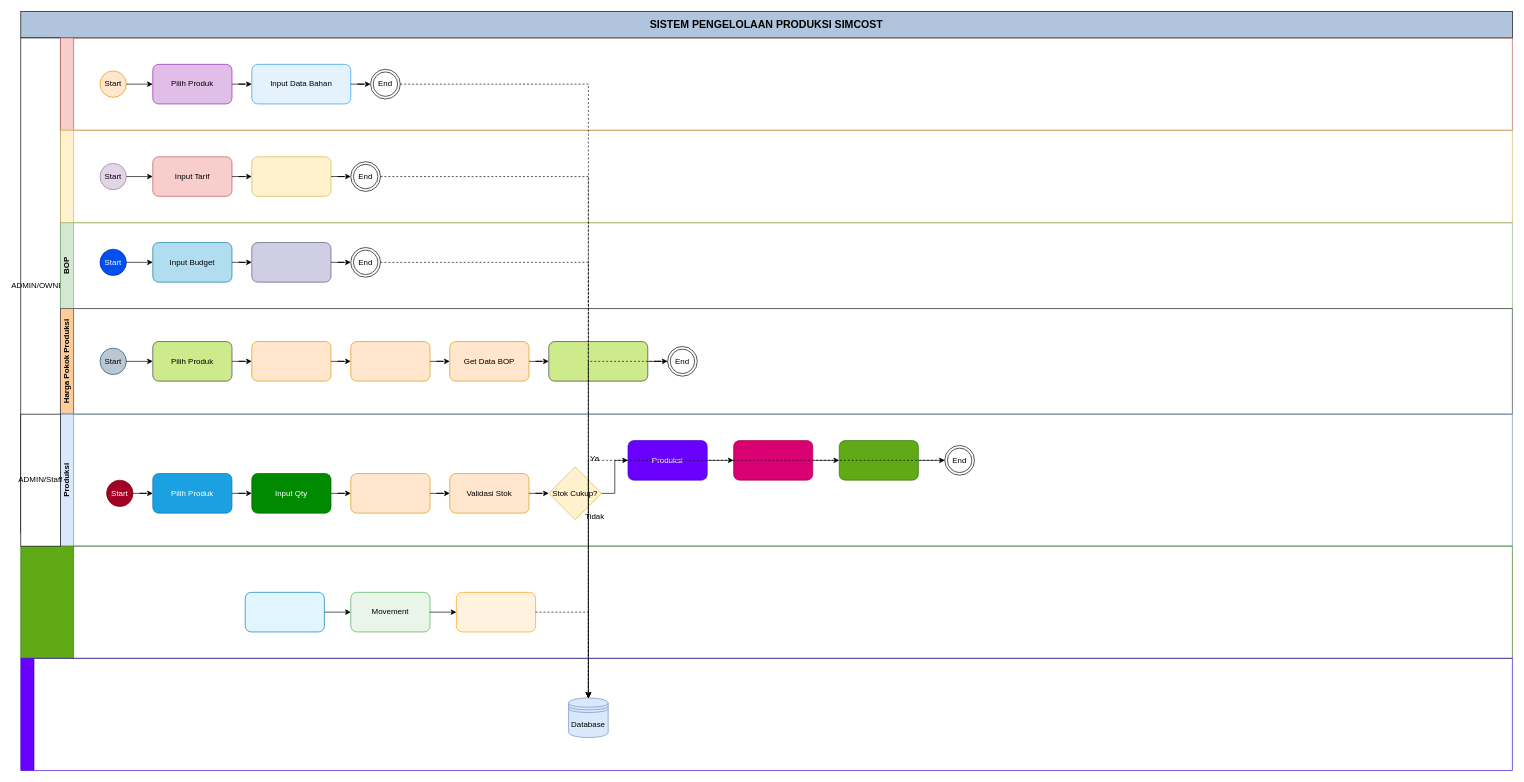
Some shapes in this 1524 by 782 pixel diagram are drawn without their labels. Here are the shapes that lost their labels. From the top down, the box of each, then its label:
(60, 37, 1512, 130): Biaya Bahan Baku
(251, 156, 331, 196): Input Jam Kerja
(60, 130, 1512, 223): BTKL
(251, 242, 331, 282): Input Aktual
(251, 341, 331, 381): Get Data BBB
(350, 341, 430, 381): Get Data BTKL
(548, 341, 648, 381): Calculate HPP
(733, 440, 813, 480): Selesai
(839, 440, 918, 480): Update Stok
(350, 473, 430, 513): Get HPP
(245, 592, 324, 632): Status Stok
(456, 592, 536, 632): Reports
(20, 545, 1512, 658): Laporan Stok
(20, 658, 1512, 771): Sistem
